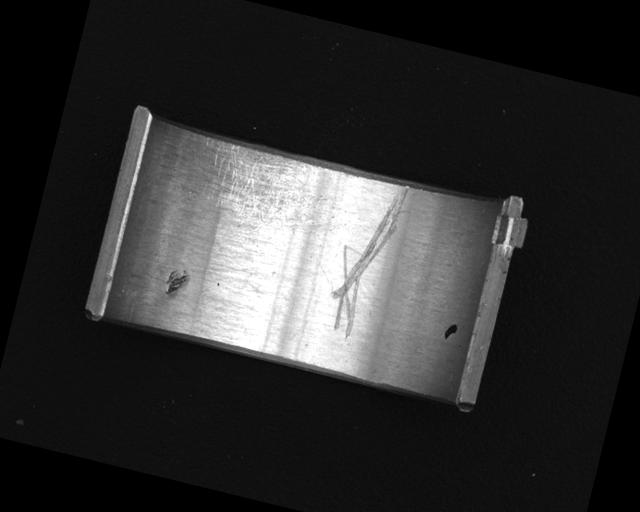blot: (441, 320, 459, 343)
bruise: (160, 265, 191, 301)
nick: (321, 173, 413, 345)
scratch: (190, 137, 344, 242)
